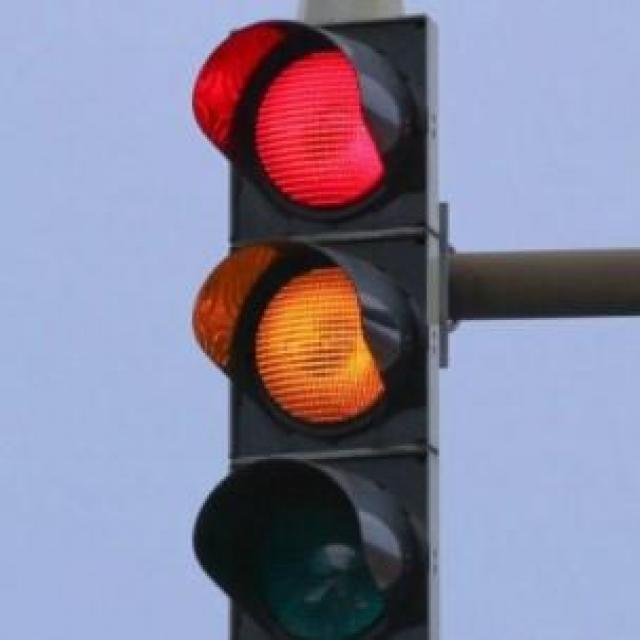yellow_light: (201, 20, 440, 640)
